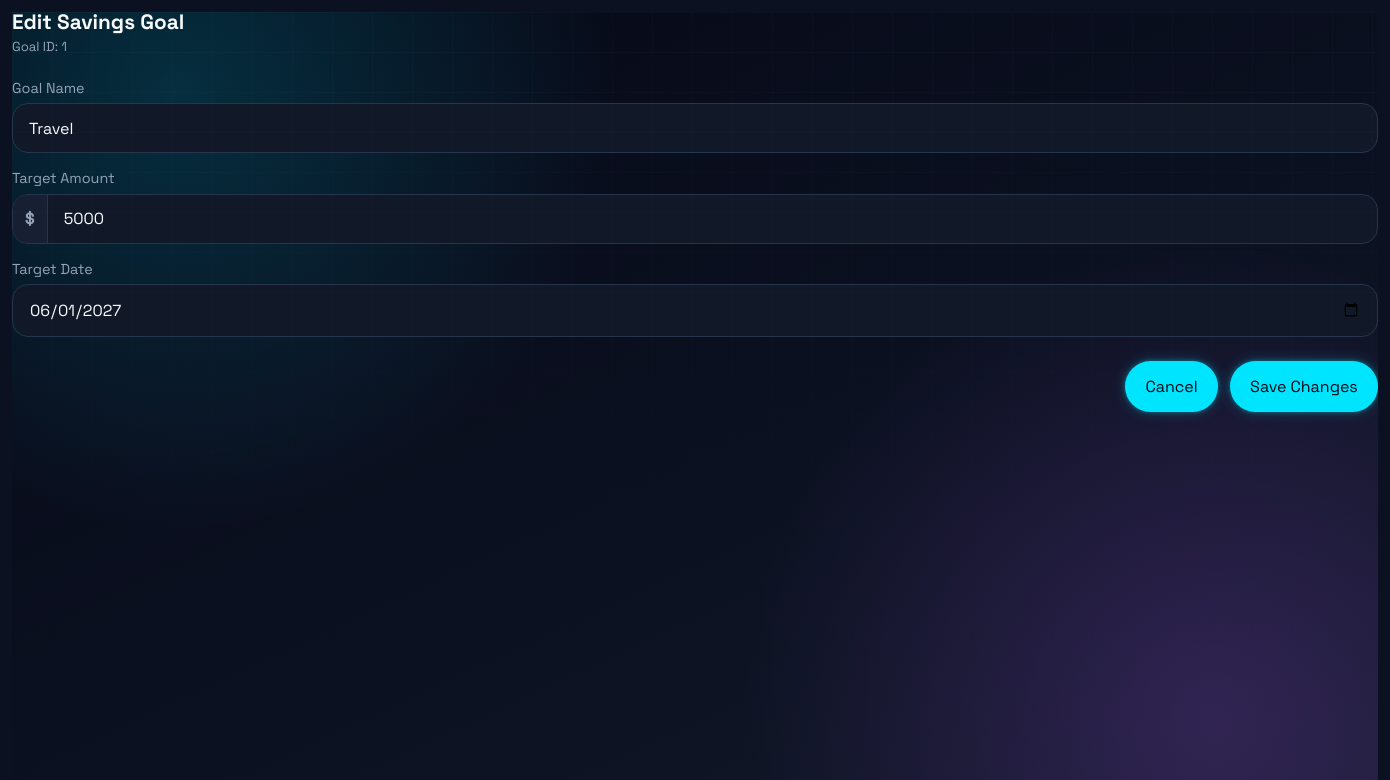
GoalEditForm › shows validation error when target amount is set to 0
This screenshot has width=1390, height=780.
Replace the text in the number field showing "5000" with "0" at (712, 219), box [48,195,1377,243]
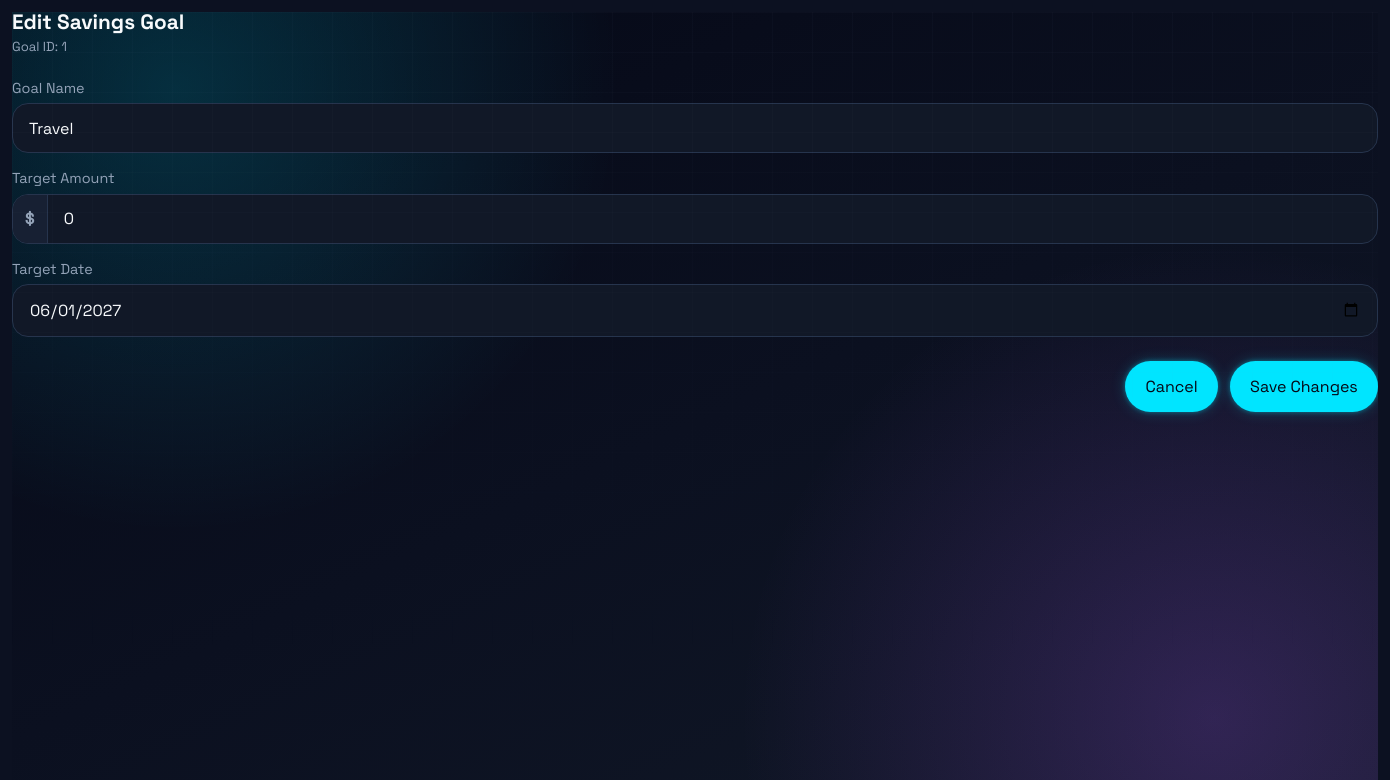
Click the button "Save Changes" at (1304, 386), box [1230,361,1378,412]
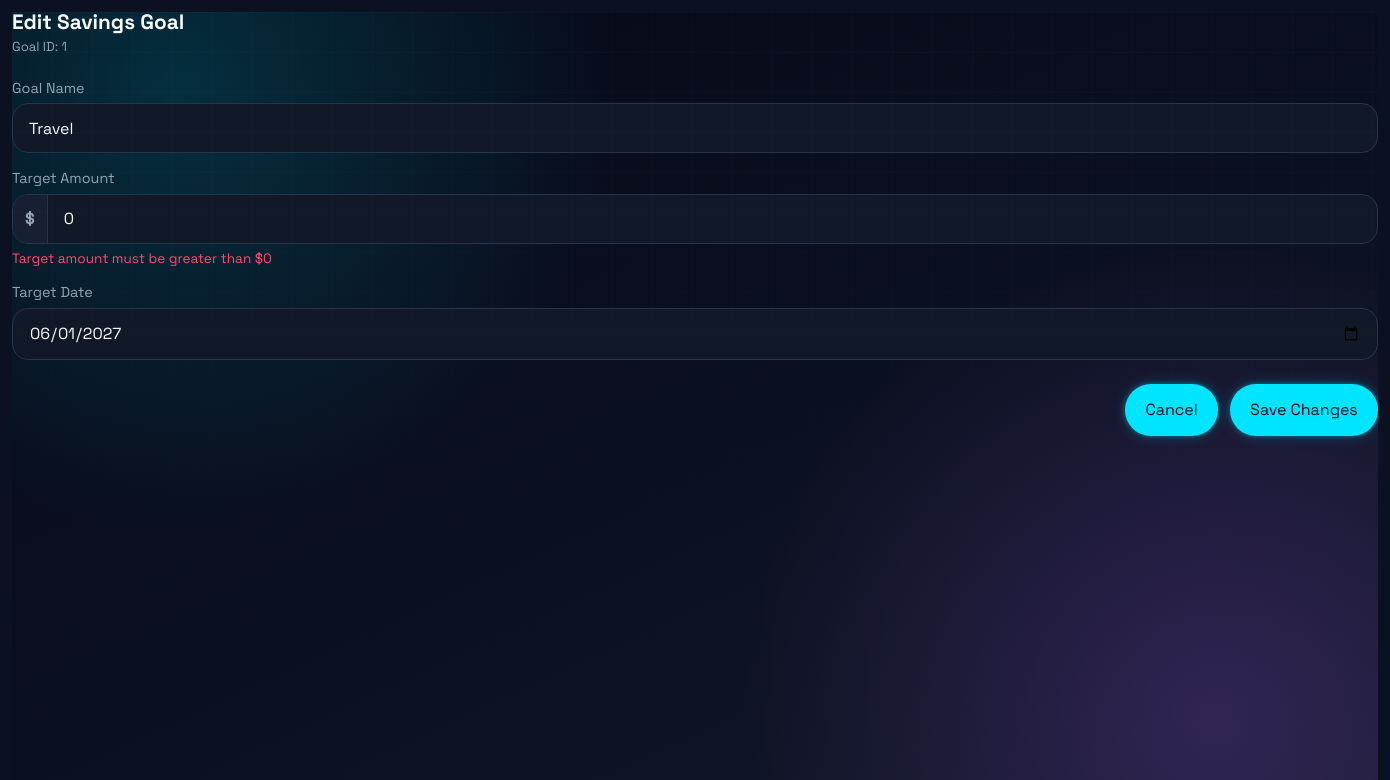
Now the text "Target amount must be greater than $0" is shown, box [12,250,272,267]
